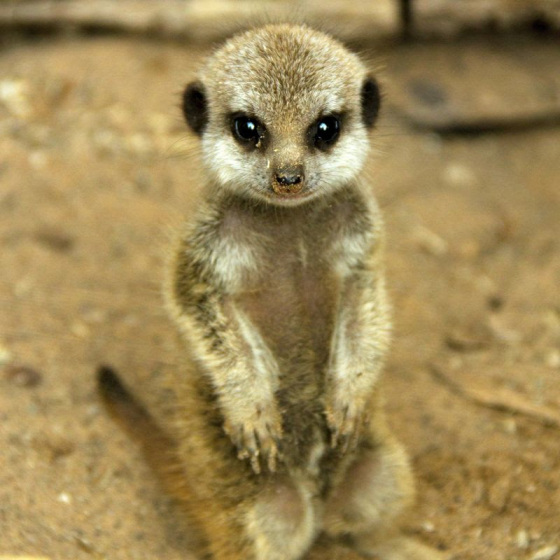meerkat: (146, 8, 434, 560)
